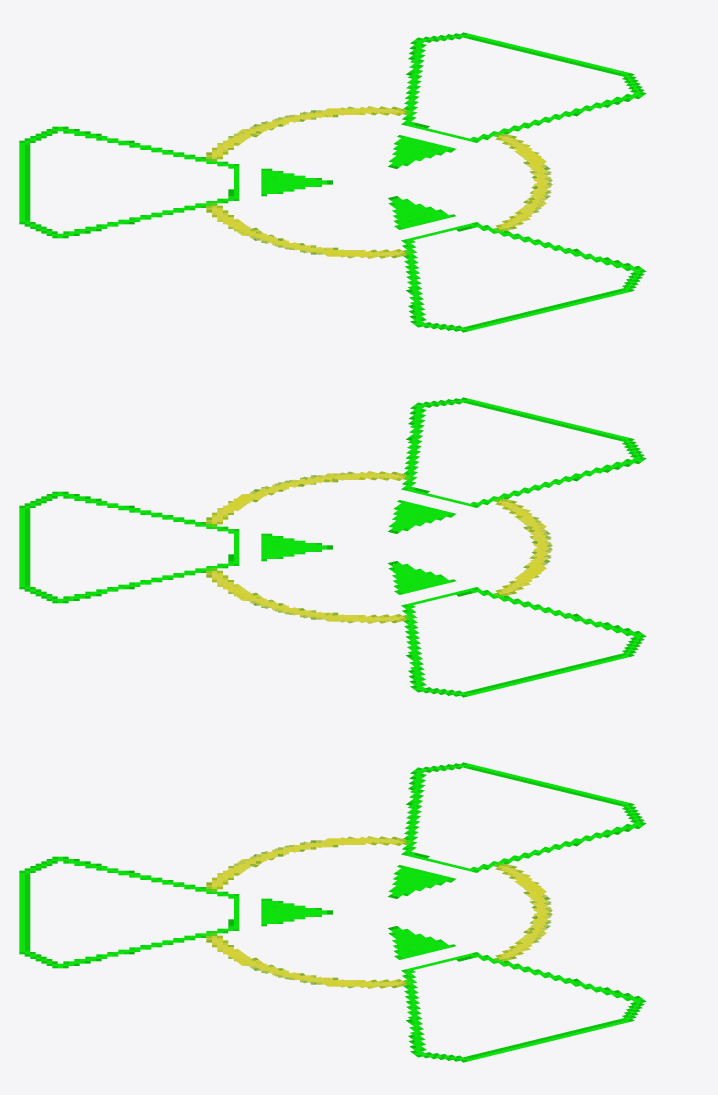
Rendered from nav1.glb.
3 renders of one model, top to bottom at view 1: azimuth 30°, elevation 25°; view 2: azimuth 150°, elevation 25°; view 3: azimuth 270°, elevation 25°, orthographic.
Parts seen in each view (by area): view 1: Plane01; view 2: Plane01; view 3: Plane01.
Boxes of the visible parts, x1,y1,x2,y2 form: Plane01: [19, 32, 646, 332]; Plane01: [19, 397, 646, 697]; Plane01: [19, 762, 646, 1062].
Size of the model in its own units: 22.9 by 0 by 19.83.
Materials: 1 (1 with a texture image).
